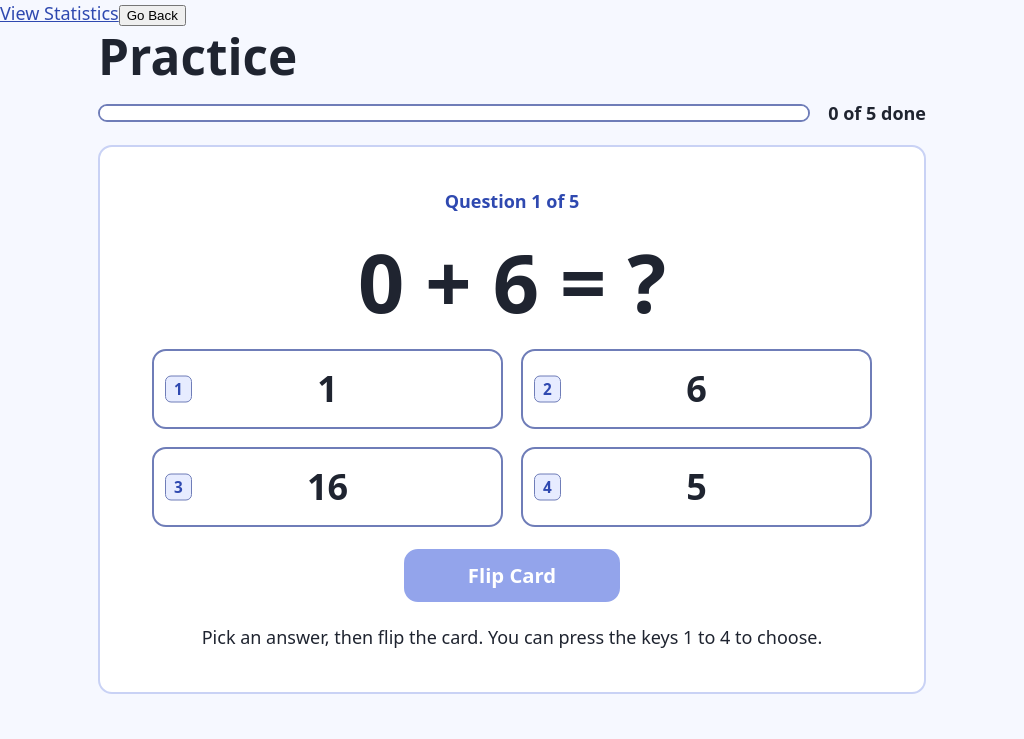
it: choosing to carry on › asks again the next time they try to leave
Click the link "View Statistics" at (59, 13), box x1=0 y1=1 x2=119 y2=25
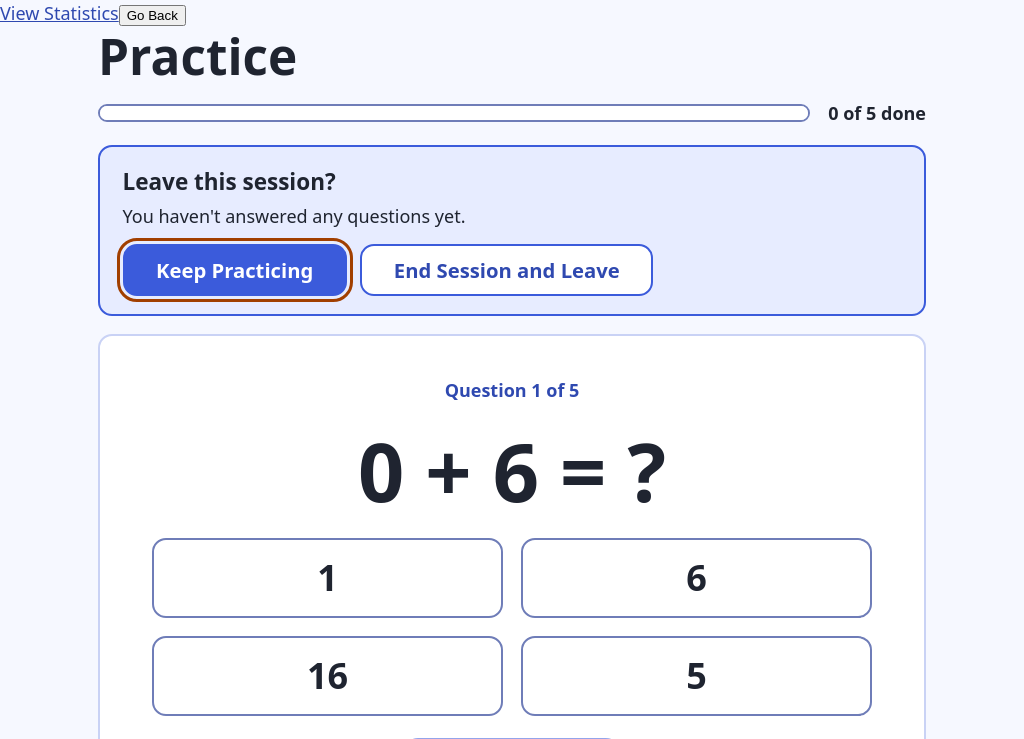
Click the button "Keep Practicing" at (235, 270), box x1=122 y1=244 x2=347 y2=296
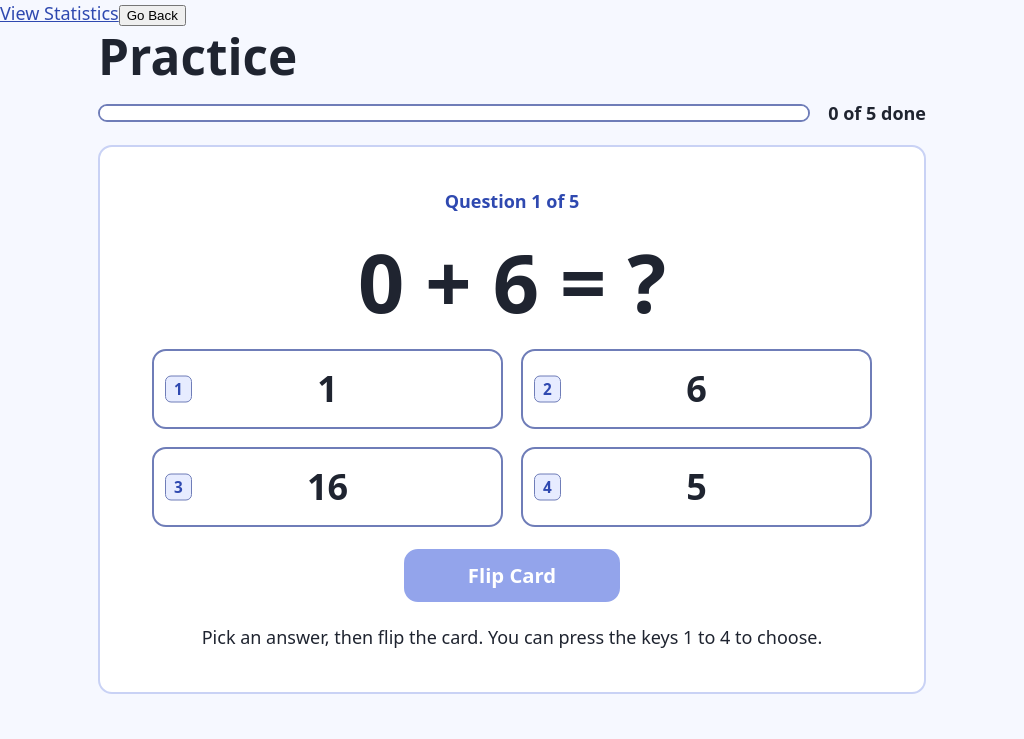
Click the link "View Statistics" at (59, 13), box x1=0 y1=1 x2=119 y2=25
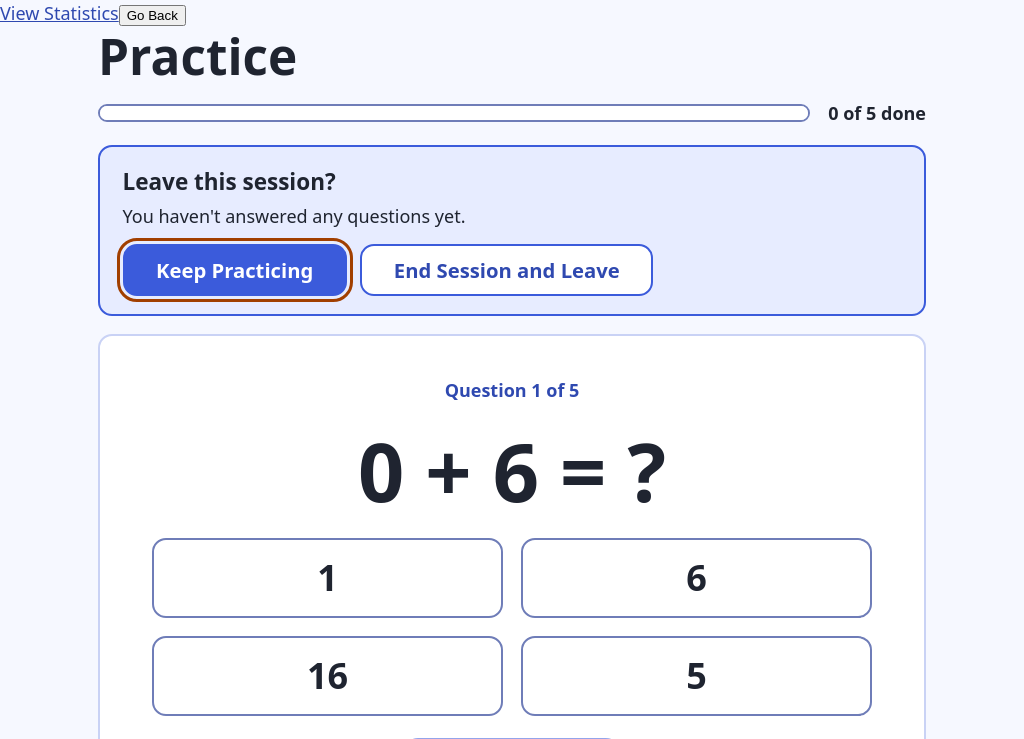
Now the dialog is shown, box x1=98 y1=145 x2=926 y2=316
